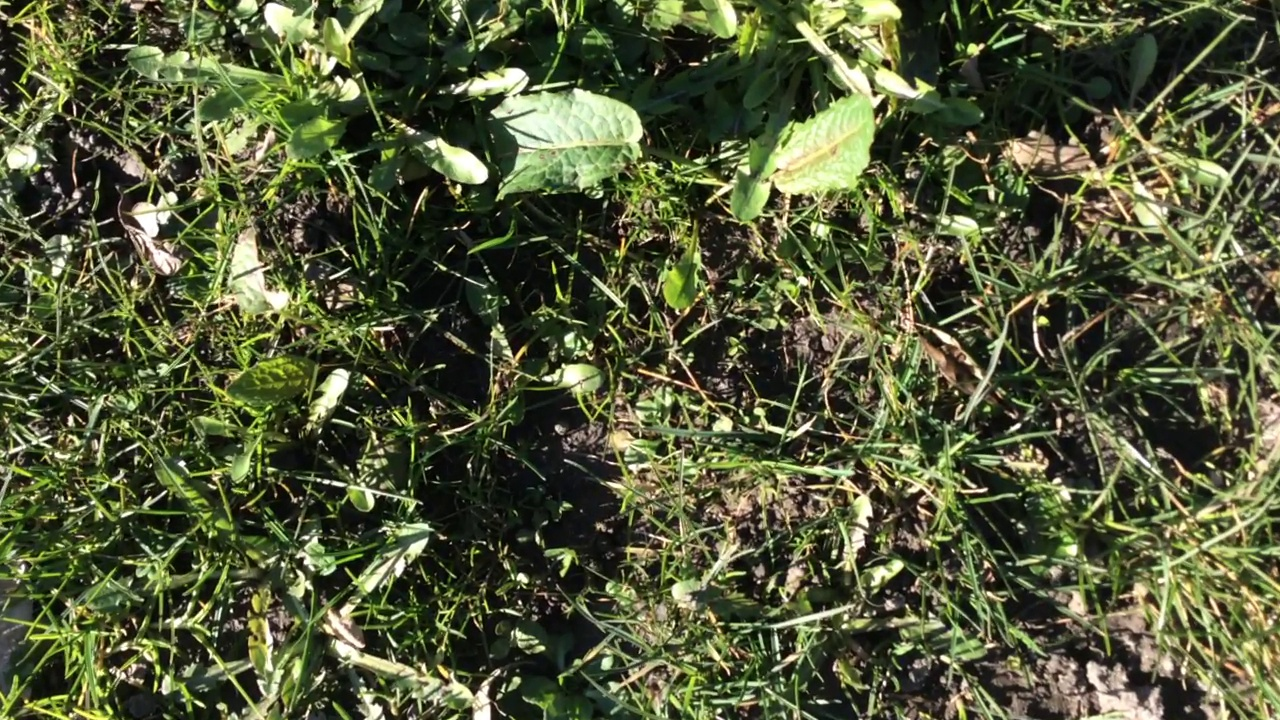rumex: (459, 88, 644, 196), (743, 95, 876, 195)
